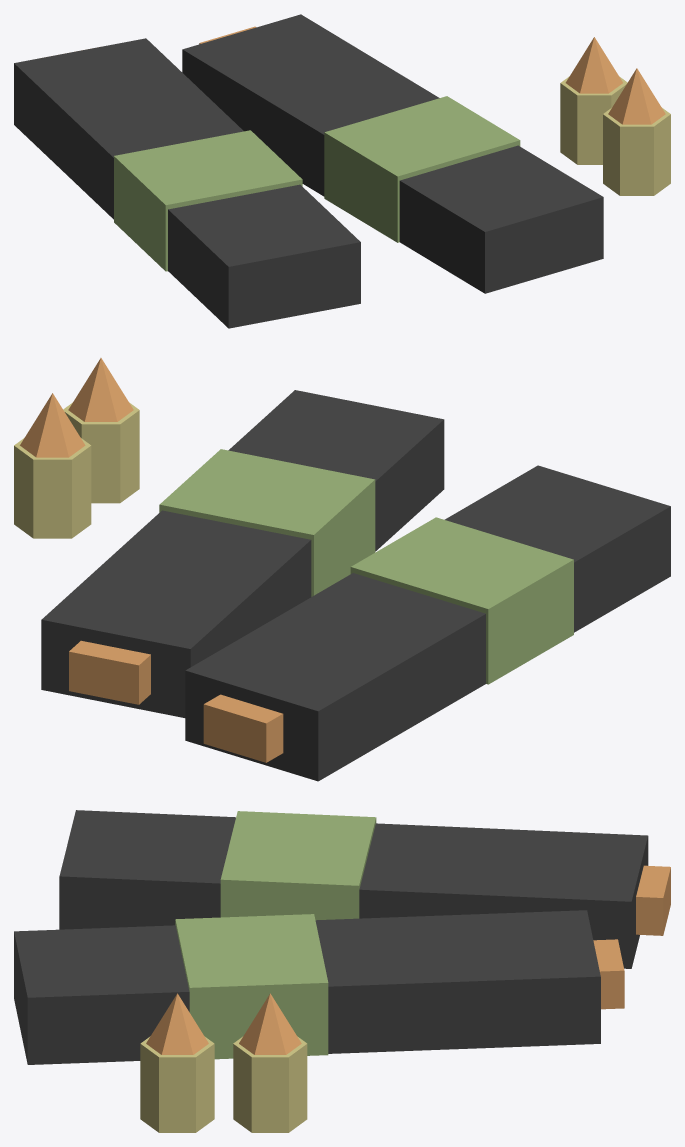
File: ce_ammo_pistol_hp_b.obj
3 views of the same model, one above another, from view 1: azimuth 30°, elevation 25°; view 2: azimuth 150°, elevation 25°; view 3: azimuth 270°, elevation 25° (orthographic). The views are drawn at different scales.
Parts seen in each view (by area): view 1: ce_ammo_pistol_hp_b_3, ce_ammo_pistol_hp_b_0, ce_ammo_pistol_hp_b_4, ce_ammo_pistol_hp_b_1, ce_ammo_pistol_hp_b_6, ce_ammo_pistol_hp_b_8, ce_ammo_pistol_hp_b_9, ce_ammo_pistol_hp_b_7; view 2: ce_ammo_pistol_hp_b_0, ce_ammo_pistol_hp_b_3, ce_ammo_pistol_hp_b_1, ce_ammo_pistol_hp_b_4, ce_ammo_pistol_hp_b_8, ce_ammo_pistol_hp_b_6, ce_ammo_pistol_hp_b_5, ce_ammo_pistol_hp_b_2, ce_ammo_pistol_hp_b_9, ce_ammo_pistol_hp_b_7; view 3: ce_ammo_pistol_hp_b_3, ce_ammo_pistol_hp_b_0, ce_ammo_pistol_hp_b_4, ce_ammo_pistol_hp_b_1, ce_ammo_pistol_hp_b_6, ce_ammo_pistol_hp_b_8, ce_ammo_pistol_hp_b_2, ce_ammo_pistol_hp_b_7, ce_ammo_pistol_hp_b_9, ce_ammo_pistol_hp_b_5.
Part boxes in pixels (x1=…): ce_ammo_pistol_hp_b_3: x1=182, y1=14, x2=603, y2=293; ce_ammo_pistol_hp_b_0: x1=14, y1=38, x2=360, y2=328; ce_ammo_pistol_hp_b_4: x1=324, y1=96, x2=520, y2=242; ce_ammo_pistol_hp_b_1: x1=114, y1=130, x2=302, y2=271; ce_ammo_pistol_hp_b_6: x1=603, y1=108, x2=670, y2=195; ce_ammo_pistol_hp_b_8: x1=560, y1=76, x2=627, y2=164; ce_ammo_pistol_hp_b_9: x1=565, y1=37, x2=622, y2=93; ce_ammo_pistol_hp_b_7: x1=608, y1=68, x2=665, y2=124; ce_ammo_pistol_hp_b_0: x1=185, y1=465, x2=670, y2=781; ce_ammo_pistol_hp_b_3: x1=41, y1=390, x2=444, y2=717; ce_ammo_pistol_hp_b_1: x1=350, y1=517, x2=573, y2=684; ce_ammo_pistol_hp_b_4: x1=159, y1=449, x2=375, y2=596; ce_ammo_pistol_hp_b_8: x1=14, y1=438, x2=91, y2=538; ce_ammo_pistol_hp_b_6: x1=63, y1=402, x2=139, y2=503; ce_ammo_pistol_hp_b_5: x1=69, y1=640, x2=150, y2=704; ce_ammo_pistol_hp_b_2: x1=203, y1=694, x2=283, y2=762; ce_ammo_pistol_hp_b_9: x1=20, y1=393, x2=85, y2=457; ce_ammo_pistol_hp_b_7: x1=68, y1=358, x2=133, y2=421; ce_ammo_pistol_hp_b_3: x1=14, y1=910, x2=600, y2=1064; ce_ammo_pistol_hp_b_0: x1=59, y1=810, x2=648, y2=968; ce_ammo_pistol_hp_b_4: x1=175, y1=914, x2=328, y2=1059; ce_ammo_pistol_hp_b_1: x1=220, y1=811, x2=376, y2=920; ce_ammo_pistol_hp_b_6: x1=140, y1=1036, x2=214, y2=1132; ce_ammo_pistol_hp_b_8: x1=233, y1=1036, x2=307, y2=1132; ce_ammo_pistol_hp_b_2: x1=636, y1=865, x2=670, y2=935; ce_ammo_pistol_hp_b_7: x1=146, y1=993, x2=208, y2=1054; ce_ammo_pistol_hp_b_9: x1=239, y1=993, x2=301, y2=1054; ce_ammo_pistol_hp_b_5: x1=593, y1=939, x2=624, y2=1009.
Size of the model in its own units: 0.6515 by 0.15 by 0.708.
